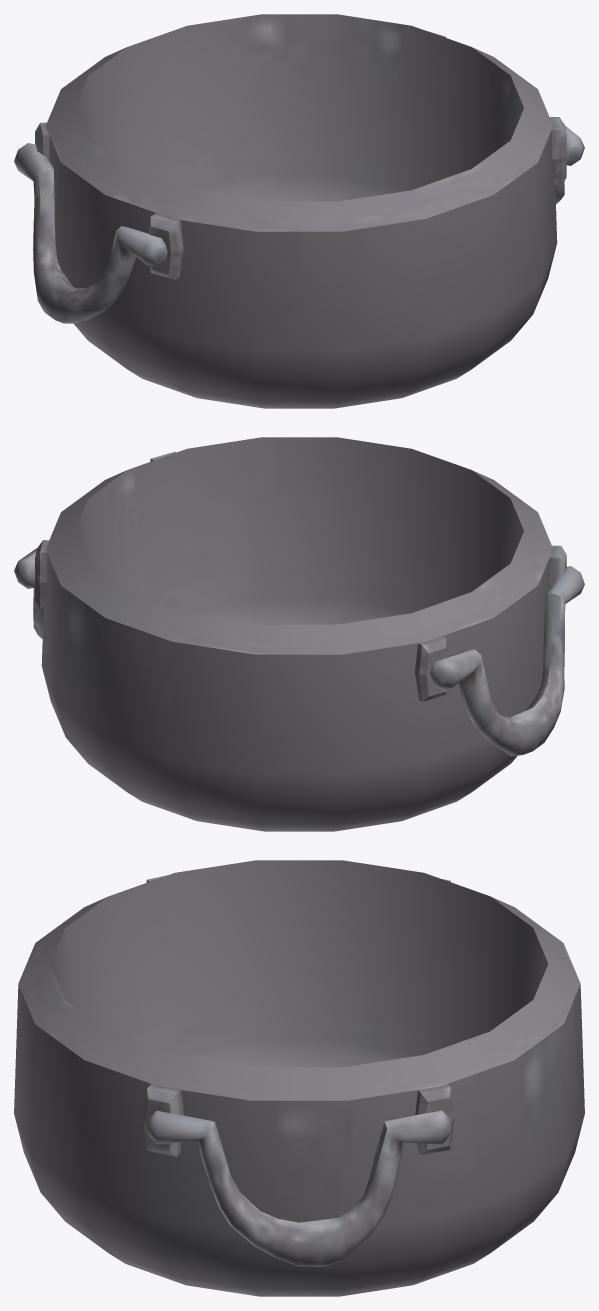
File: pot-Dh1JRJVz.glb
The picture shows the model from 3 angles, top to bottom: view 1: azimuth 30°, elevation 25°; view 2: azimuth 150°, elevation 25°; view 3: azimuth 270°, elevation 25°; orthographic projection. The views are drawn at different scales.
Parts seen in each view (by area): view 1: Pot_1; view 2: Pot_1; view 3: Pot_1.
Part boxes in pixels (x1,y1,x2,y2): Pot_1: (14, 14, 584, 408); Pot_1: (14, 437, 584, 831); Pot_1: (14, 860, 584, 1296).
Size of the model in its own units: 2.43 by 1.01 by 2.19.
1 material, 1 textured.
